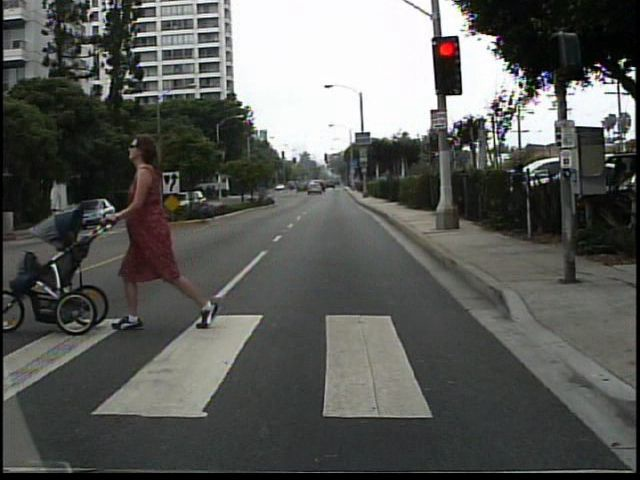person: (107, 129, 220, 329)
